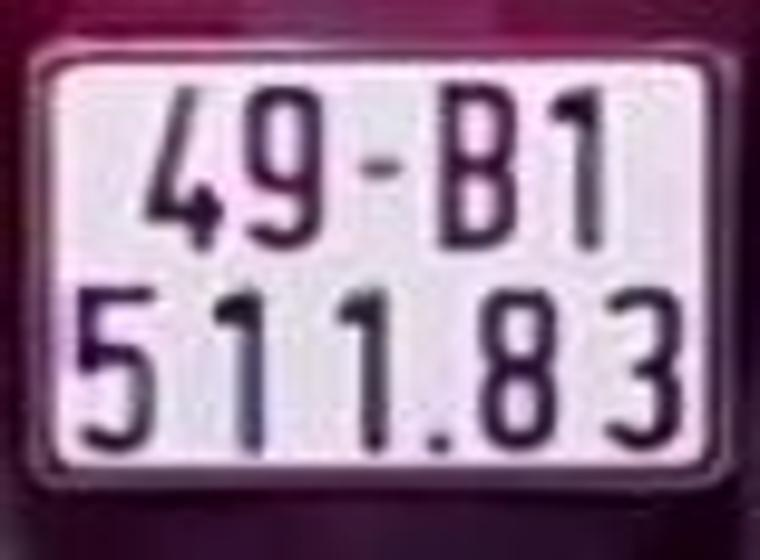-: (355, 159, 399, 176)
.: (426, 434, 448, 452)
1: (549, 80, 604, 249), (339, 288, 389, 452), (215, 288, 264, 454)
3: (602, 285, 686, 449)
4: (143, 78, 222, 255)
5: (73, 287, 157, 451)
8: (475, 295, 553, 449)
9: (240, 83, 325, 250)
B: (437, 81, 516, 248)
